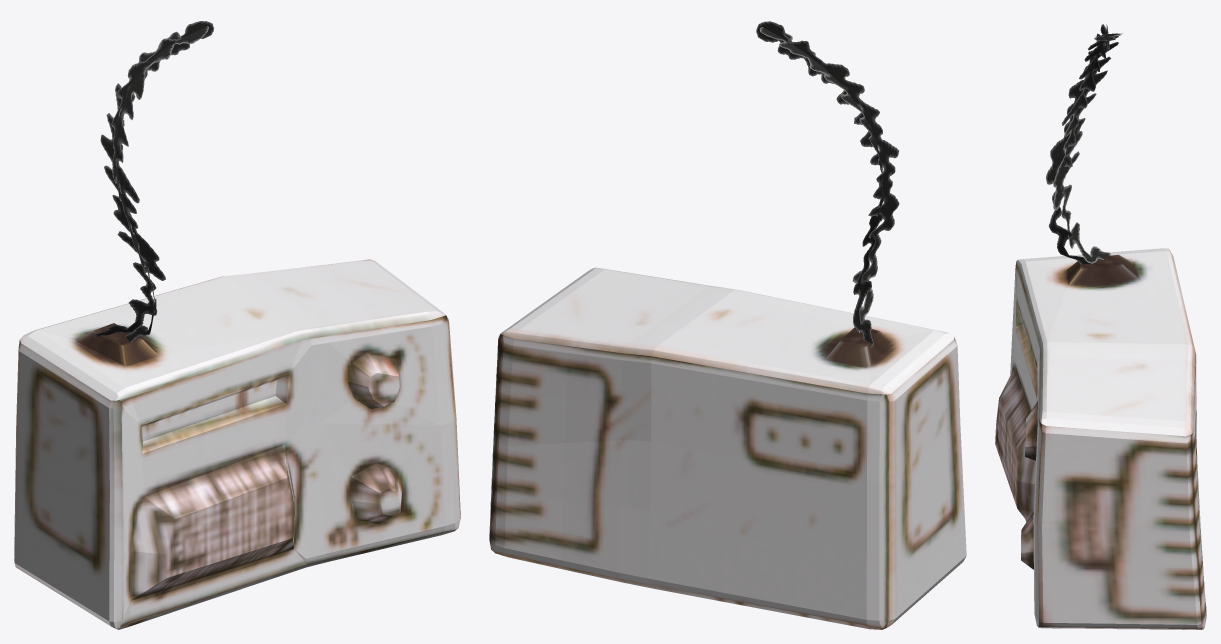
File: Radio.fbx
3 views of the same model, side by side, from view 1: azimuth 30°, elevation 25°; view 2: azimuth 150°, elevation 25°; view 3: azimuth 270°, elevation 25° (orthographic). The views are drawn at different scales.
Parts seen in each view (by area): view 1: Radio; view 2: Radio; view 3: Radio.
Part boxes in pixels (left/top/right/bottom): Radio: left=14, top=21, right=460, bottom=629; Radio: left=489, top=21, right=966, bottom=629; Radio: left=995, top=24, right=1206, bottom=629.
Size of the model in its own units: 73.63 by 101 by 38.1.
Materials: 1 (1 with a texture image).
